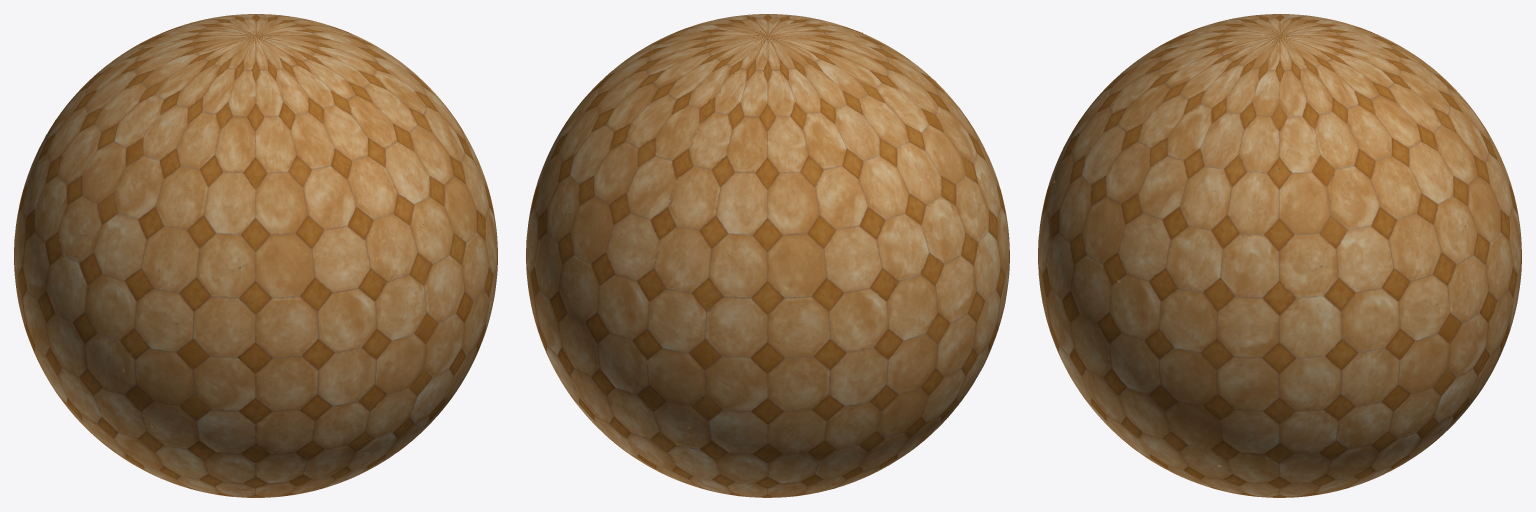
The model's file is old_linoleum_flooring_01_2k.gltf.
3 renders of one model, left to right at view 1: azimuth 30°, elevation 25°; view 2: azimuth 150°, elevation 25°; view 3: azimuth 270°, elevation 25°, orthographic.
Visible parts, largest first — view 1: sphere_gltf; view 2: sphere_gltf; view 3: sphere_gltf.
Boxes of the visible parts, <box> form: sphere_gltf: <box>14,14,497,497</box>; sphere_gltf: <box>526,14,1009,497</box>; sphere_gltf: <box>1038,14,1521,497</box>.
Size of the model in its own units: 1.99 by 1.99 by 1.99.
1 material, 1 textured.
